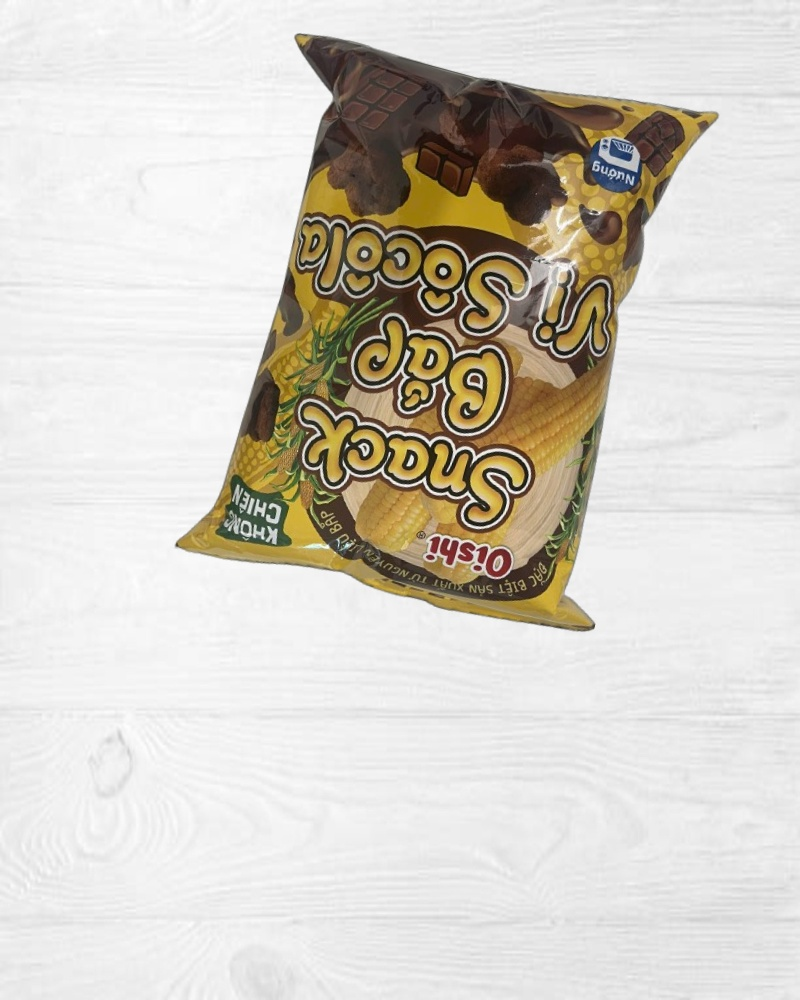Snack socola: (161, 6, 730, 657)
